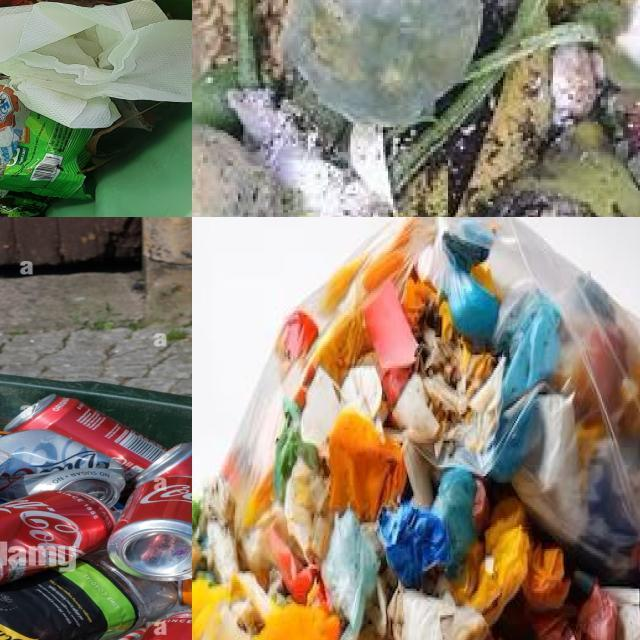Garbage: (192, 217, 640, 640), (0, 396, 192, 640)
Plastic_Bag: (221, 217, 640, 585), (192, 0, 640, 217), (283, 0, 482, 125), (321, 508, 380, 640), (0, 81, 31, 180)
Plastic_bottle: (0, 553, 179, 640)
Plastic_wraper: (0, 110, 93, 200), (0, 189, 51, 217), (37, 0, 116, 7)
can: (5, 394, 167, 478), (0, 491, 114, 585), (0, 429, 126, 506), (109, 476, 192, 581)
